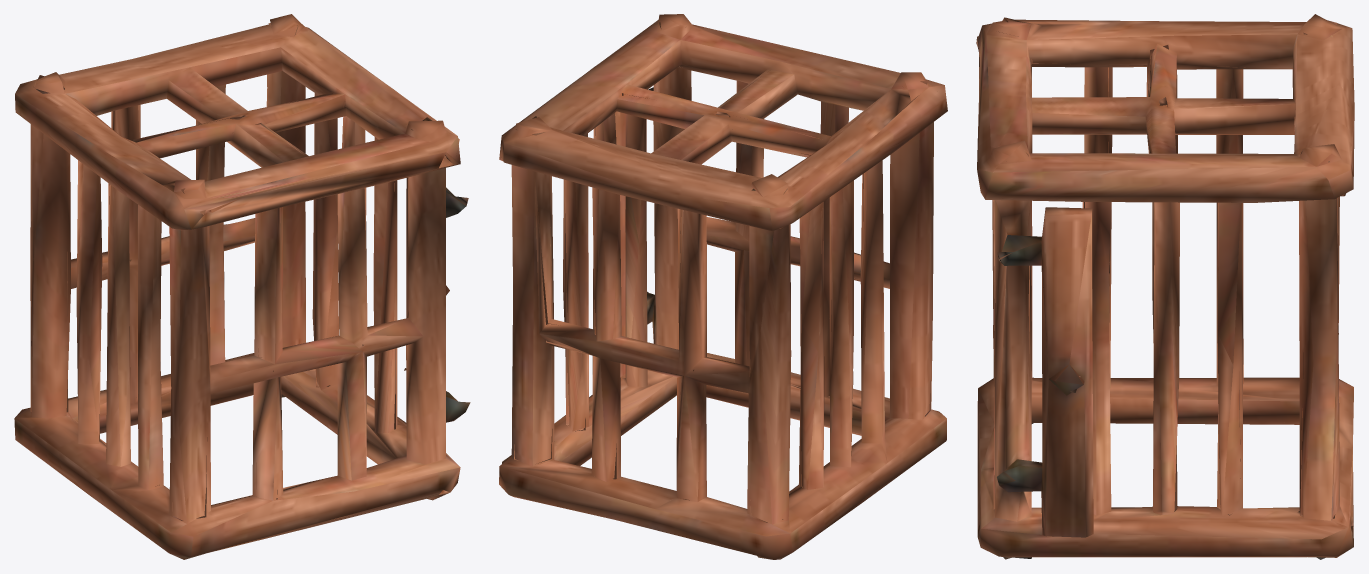
The model's file is lg-wooden-cage.glb.
The picture shows the model from 3 angles, left to right: view 1: azimuth 30°, elevation 25°; view 2: azimuth 150°, elevation 25°; view 3: azimuth 270°, elevation 25°; orthographic projection. The views are drawn at different scales.
Parts seen in each view (by area): view 1: geometry_0; view 2: geometry_0; view 3: geometry_0.
Boxes of the visible parts, <box> form: geometry_0: <box>14,14,470,559</box>; geometry_0: <box>499,14,947,559</box>; geometry_0: <box>976,14,1354,559</box>.
Size of the model in its own units: 0.8663 by 1 by 0.8412.
Materials: 1 (1 with a texture image).
